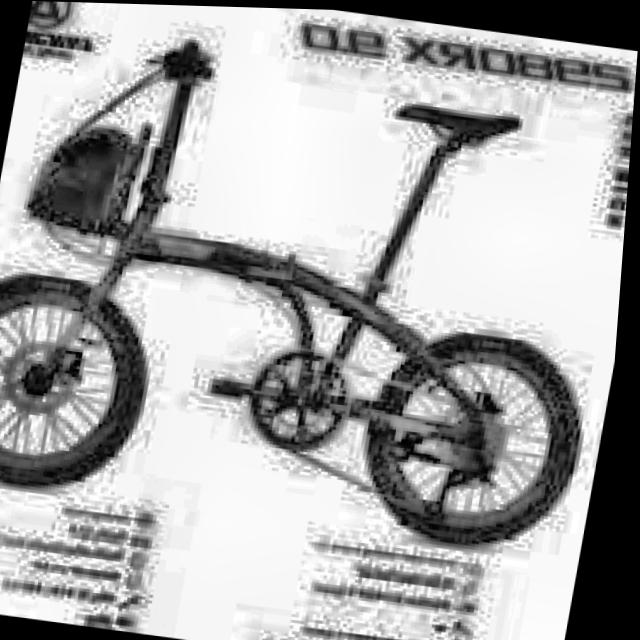bike: (0, 10, 639, 561)
